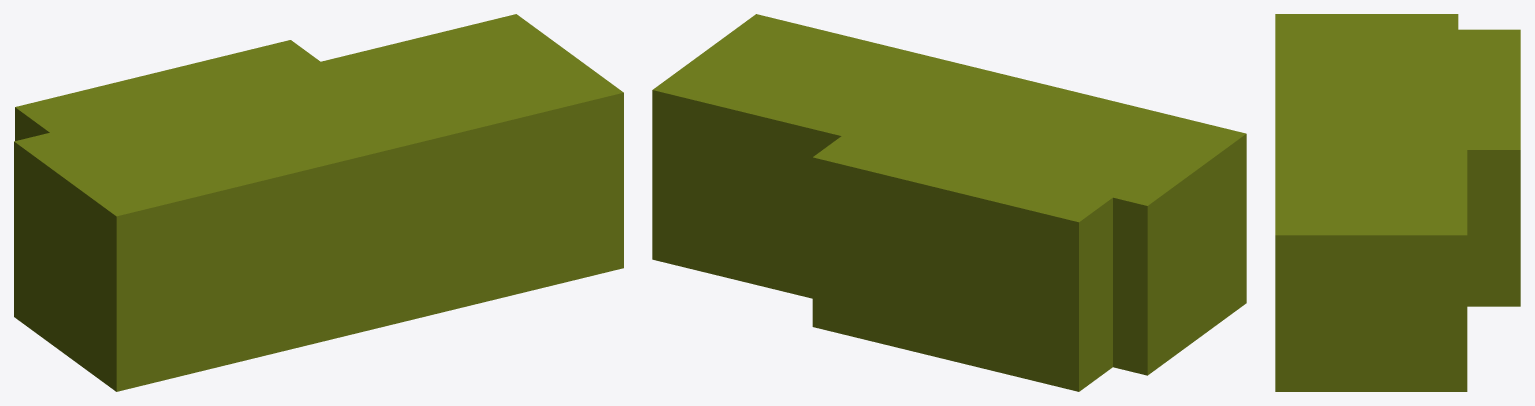
File: Oper.fbx
The picture shows the model from 3 angles, left to right: view 1: azimuth 30°, elevation 25°; view 2: azimuth 150°, elevation 25°; view 3: azimuth 270°, elevation 25°; orthographic projection. The views are drawn at different scales.
Visible parts, largest first — view 1: StaatsOper; view 2: StaatsOper; view 3: StaatsOper.
Boxes of the visible parts, bbox=[...] form: StaatsOper: bbox=[14, 14, 623, 391]; StaatsOper: bbox=[652, 14, 1246, 391]; StaatsOper: bbox=[1275, 14, 1520, 391].
Bounding box in the file's own units: 19729 × 6522 × 9254.
